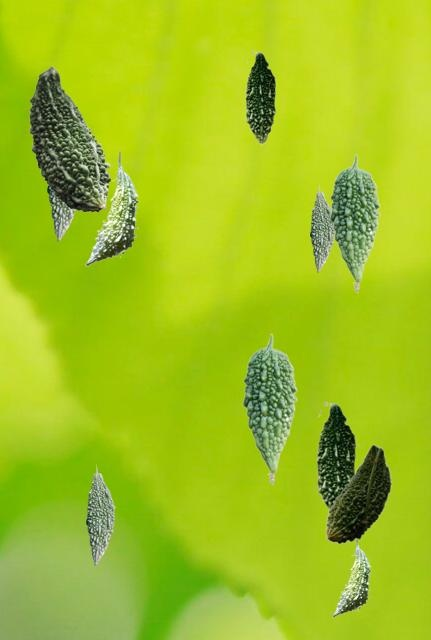ampalaya: (29, 66, 110, 211), (242, 333, 296, 484), (329, 154, 379, 292), (325, 444, 391, 543), (85, 152, 138, 265), (316, 401, 358, 508), (245, 50, 277, 144), (332, 540, 370, 616), (86, 464, 114, 564), (310, 184, 333, 271), (47, 185, 75, 240)
